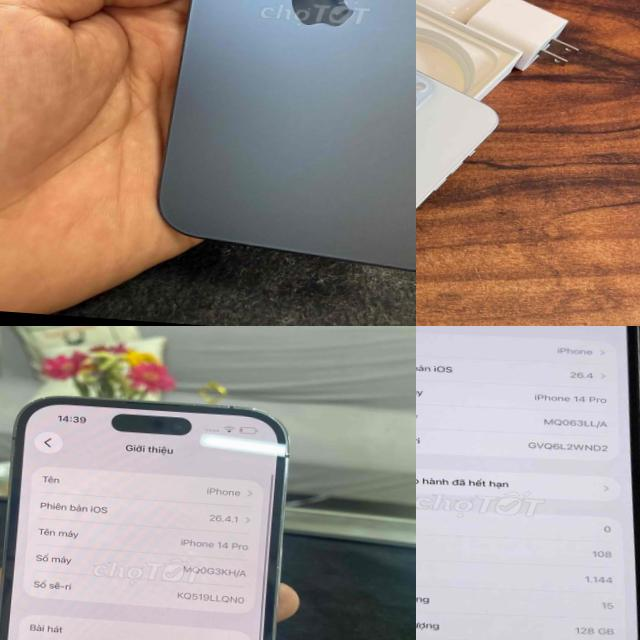gen_12_13: (416, 44, 514, 307)
gen_14: (0, 387, 304, 640), (416, 326, 640, 640)
gen_15: (150, 0, 416, 286)
